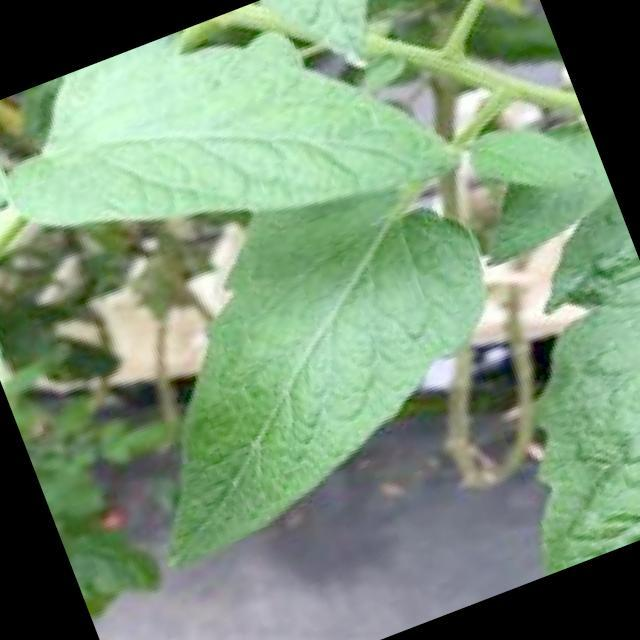Tomato healthy leaf: (168, 187, 487, 570), (5, 30, 464, 229), (544, 197, 640, 574), (469, 131, 592, 193)
